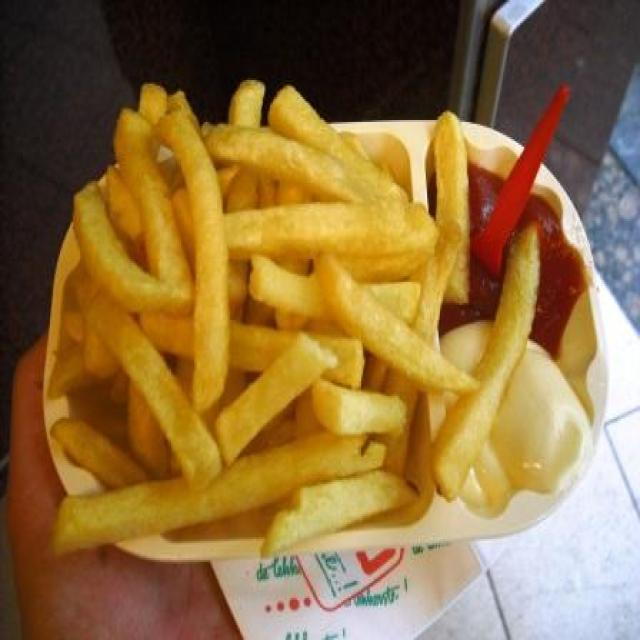French Fries: (48, 68, 542, 562)
